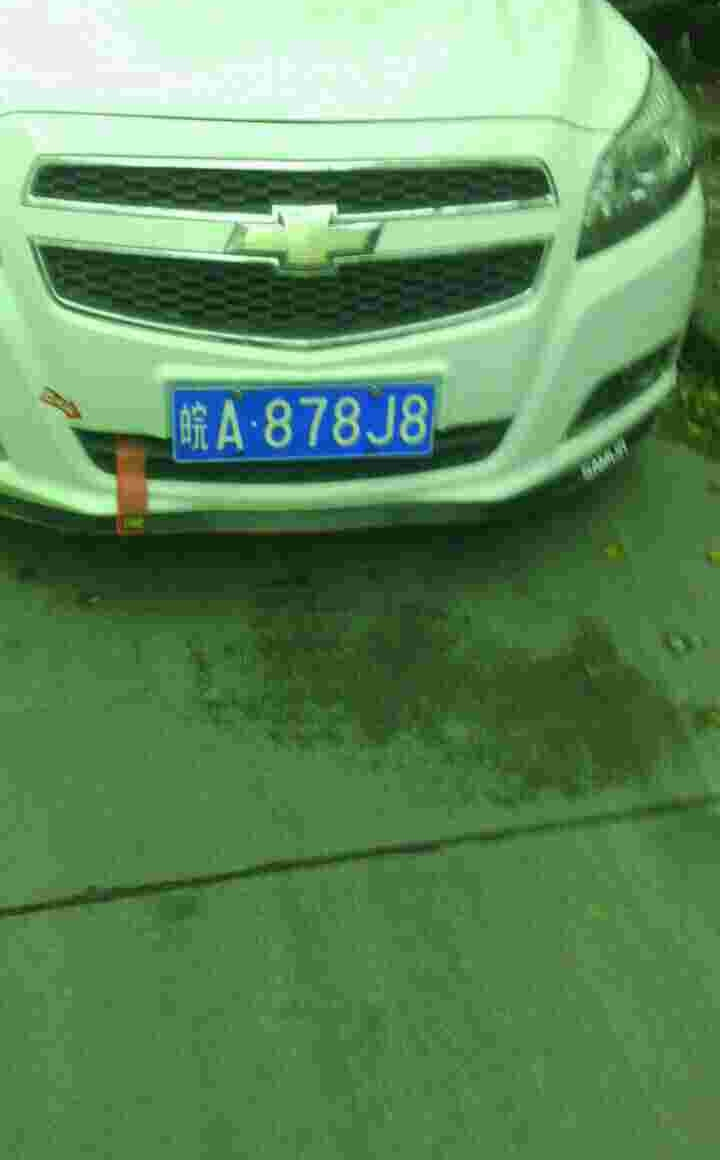plate: (176, 378, 443, 467)
